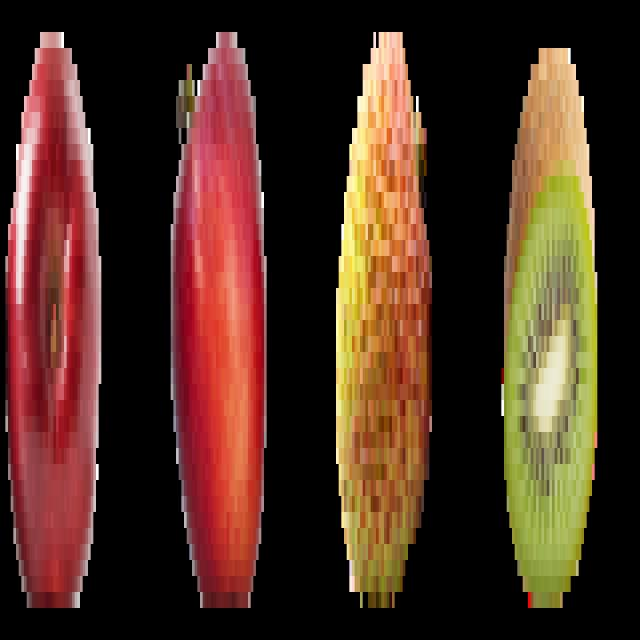apple: (165, 13, 271, 634), (2, 10, 106, 626)
kiwifruit: (501, 16, 602, 623)
lychee: (330, 9, 443, 638)
